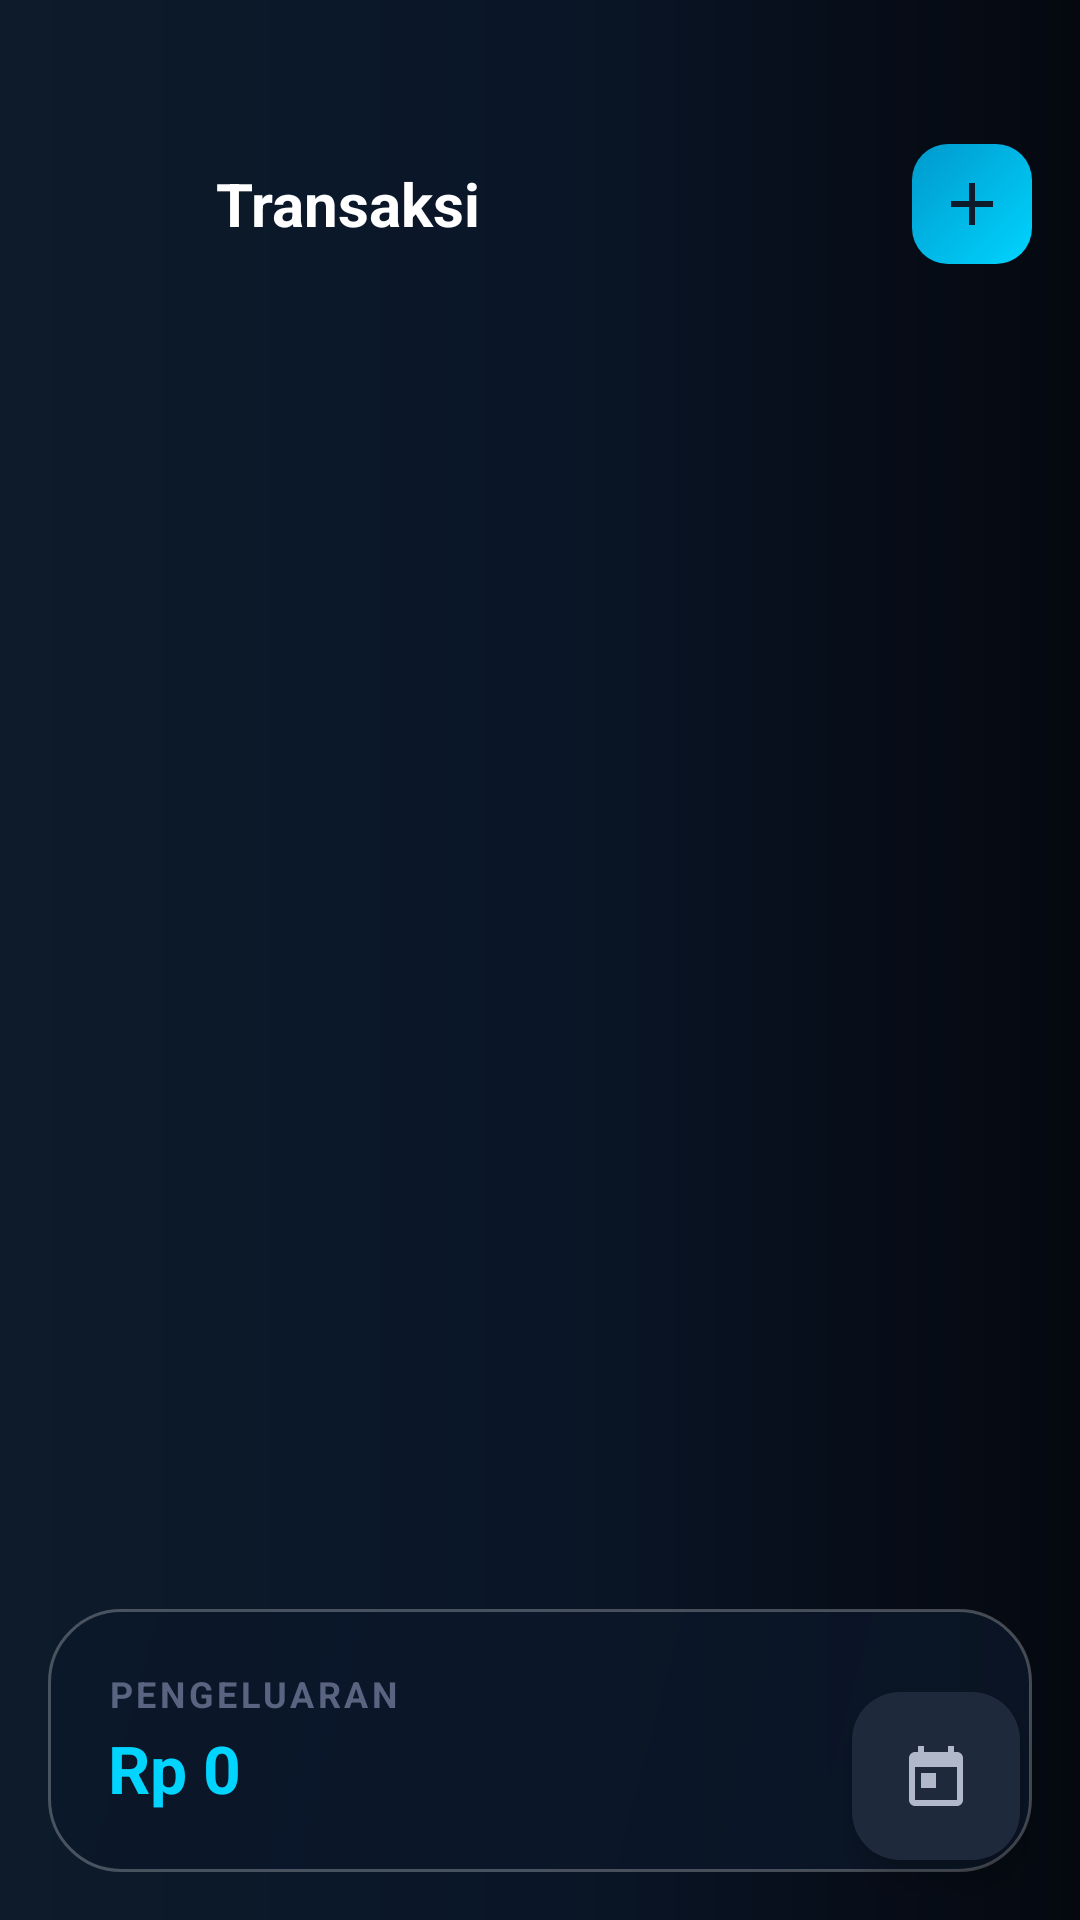

Named icons in this screenshot (1080×1920) and their bounding boxes, [left=x1, top=y1, right=x2, bottom=y2]:
Tambah: [left=912, top=144, right=1032, bottom=264]
